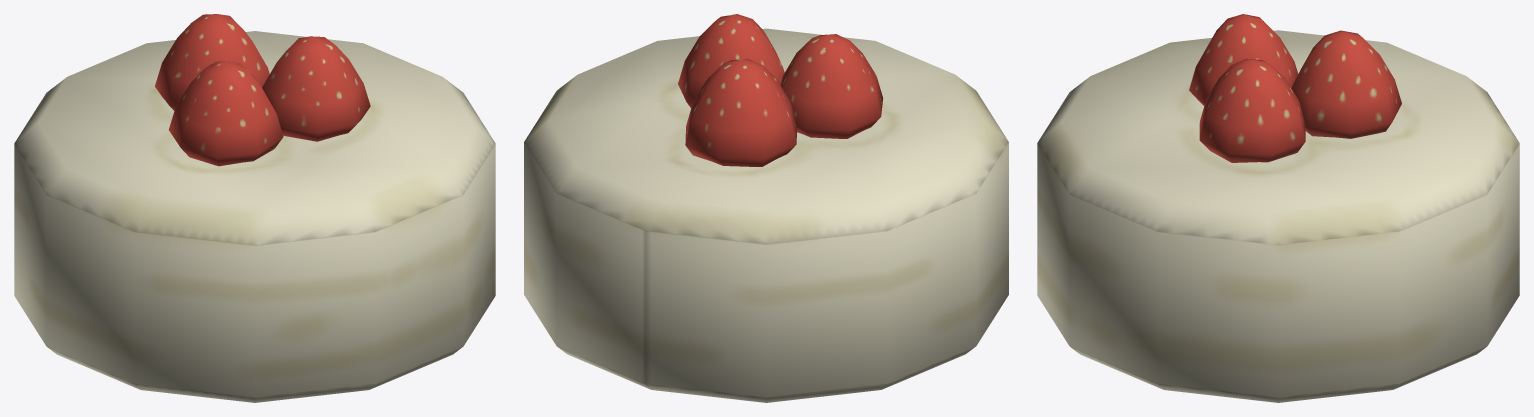
Rendered from Bakery_Cake_01.fbx.
The picture shows the model from 3 angles, left to right: view 1: azimuth 30°, elevation 25°; view 2: azimuth 150°, elevation 25°; view 3: azimuth 270°, elevation 25°; orthographic projection.
Parts seen in each view (by area): view 1: Bakery_Cake_01; view 2: Bakery_Cake_01; view 3: Bakery_Cake_01.
Boxes of the visible parts, left/top/right/bottom form: Bakery_Cake_01: left=14, top=14, right=495, bottom=402; Bakery_Cake_01: left=524, top=14, right=1008, bottom=402; Bakery_Cake_01: left=1037, top=14, right=1519, bottom=402.
Size of the model in its own units: 36.56 by 22.62 by 36.56.
